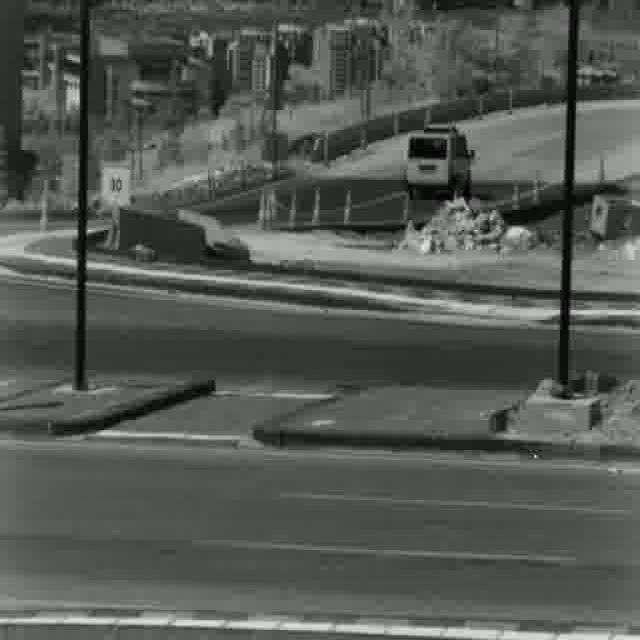Car: (405, 132, 474, 200)
